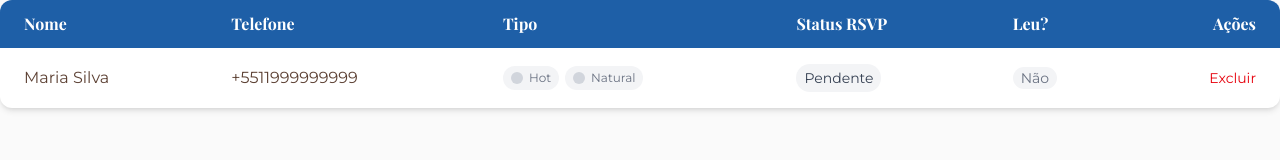
Test: GuestsTable > Inline Editing › should start editing phone on click
The image size is (1280, 160).
Click the button "+5511999999999" at (343, 78), box [231,66,455,90]
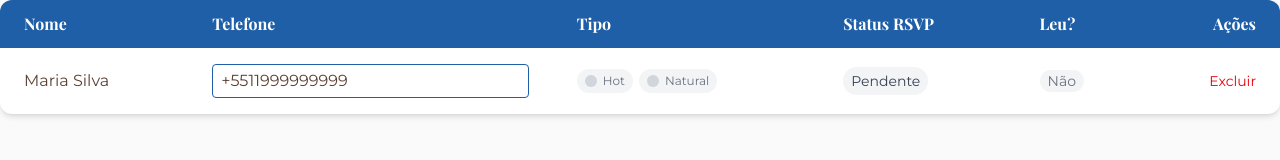
Expected: the field with placeholder "+55XX..." is shown, [212,64,529,98]
